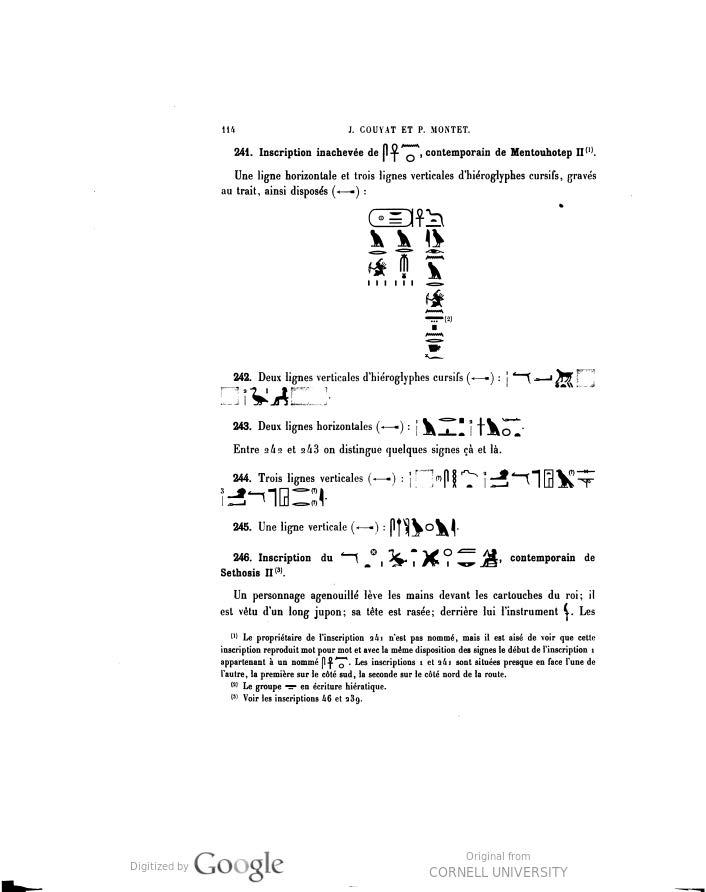circle: (364, 203, 421, 233)
